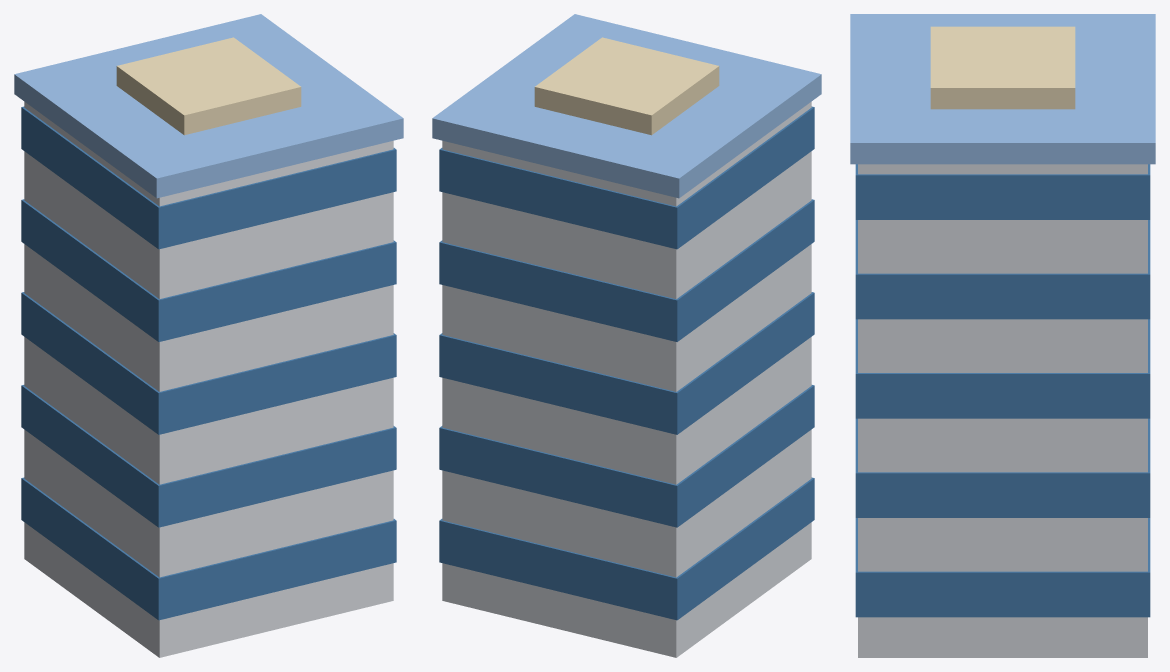
Rendered from block_2038.glb.
3 renders of one model, left to right at view 1: azimuth 30°, elevation 25°; view 2: azimuth 150°, elevation 25°; view 3: azimuth 270°, elevation 25°, orthographic. The views are drawn at different scales.
Visible parts, largest first — view 1: Body, Roof, Body_win_f3, Body_win_f0, Body_win_f2, Body_win_f4, Body_win_f1, Trim; view 2: Body, Roof, Body_win_f3, Body_win_f0, Body_win_f2, Body_win_f4, Body_win_f1, Trim; view 3: Body, Roof, Body_win_f0, Body_win_f3, Body_win_f2, Body_win_f1, Body_win_f4, Trim.
Part boxes in pixels (bbox=[...]): Body: bbox=[24, 102, 393, 657]; Roof: bbox=[14, 14, 403, 198]; Body_win_f3: bbox=[21, 199, 396, 341]; Body_win_f0: bbox=[21, 477, 396, 620]; Body_win_f2: bbox=[21, 292, 396, 434]; Body_win_f4: bbox=[21, 106, 396, 249]; Body_win_f1: bbox=[21, 385, 396, 527]; Trim: bbox=[116, 37, 301, 135]; Body: bbox=[442, 102, 811, 657]; Roof: bbox=[432, 14, 821, 198]; Body_win_f3: bbox=[439, 199, 814, 341]; Body_win_f0: bbox=[439, 477, 814, 620]; Body_win_f2: bbox=[439, 292, 814, 434]; Body_win_f4: bbox=[439, 106, 814, 249]; Body_win_f1: bbox=[439, 385, 814, 527]; Trim: bbox=[534, 37, 719, 135]; Body: bbox=[858, 164, 1147, 657]; Roof: bbox=[850, 14, 1155, 164]; Body_win_f0: bbox=[855, 518, 1150, 617]; Body_win_f3: bbox=[855, 220, 1150, 319]; Body_win_f2: bbox=[855, 319, 1150, 418]; Body_win_f1: bbox=[855, 418, 1150, 517]; Body_win_f4: bbox=[855, 164, 1150, 219]; Trim: bbox=[930, 26, 1075, 109].
Size of the model in its own units: 0.78 by 1.52 by 0.78.
